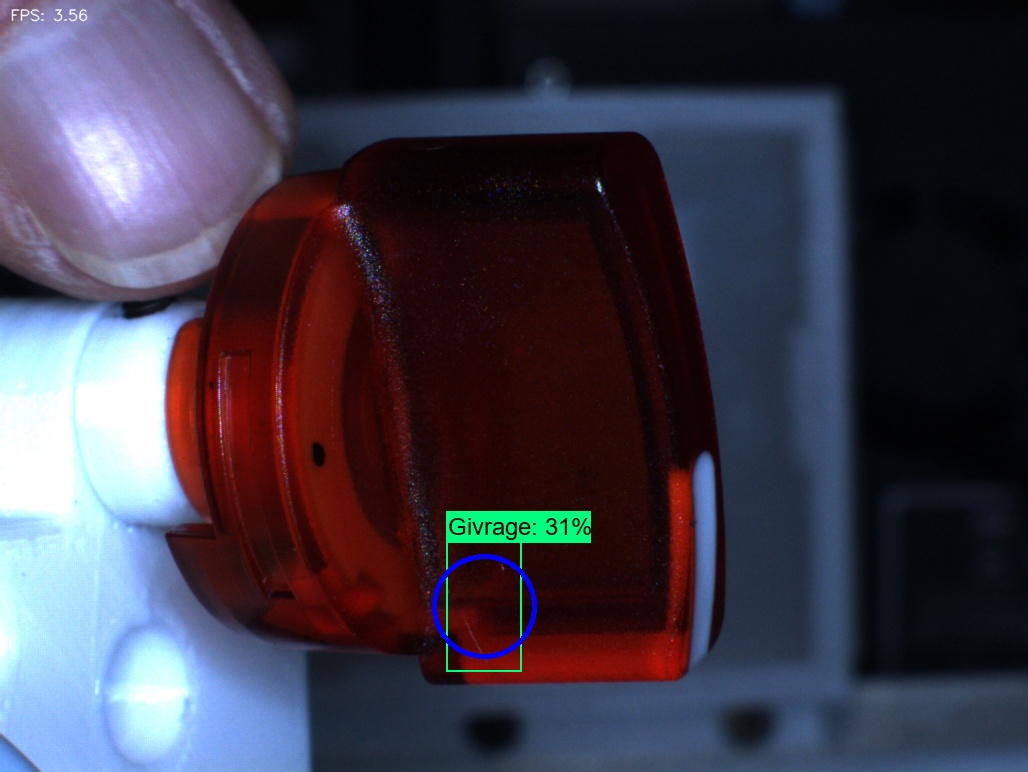PointNoir: (283, 407, 357, 501)
